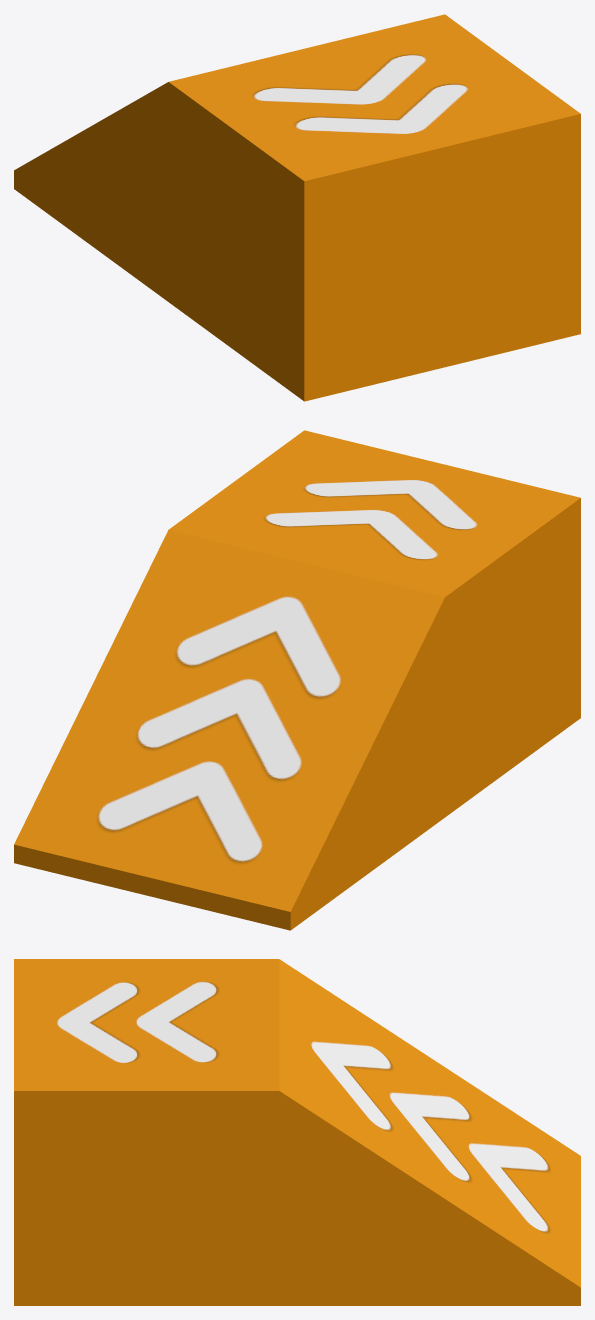
File: Ramp.fbx
The picture shows the model from 3 angles, top to bottom: view 1: azimuth 30°, elevation 25°; view 2: azimuth 150°, elevation 25°; view 3: azimuth 270°, elevation 25°; orthographic projection. The views are drawn at different scales.
Parts seen in each view (by area): view 1: Ramp; view 2: Ramp; view 3: Ramp.
Part boxes in pixels (x1=…): Ramp: x1=14, y1=14, x2=580, y2=401; Ramp: x1=14, y1=430, x2=580, y2=930; Ramp: x1=14, y1=959, x2=580, y2=1305.
Bounding box in the file's own units: 3.06 × 2.33 × 5.57.
Materials: 1 (1 with a texture image).
